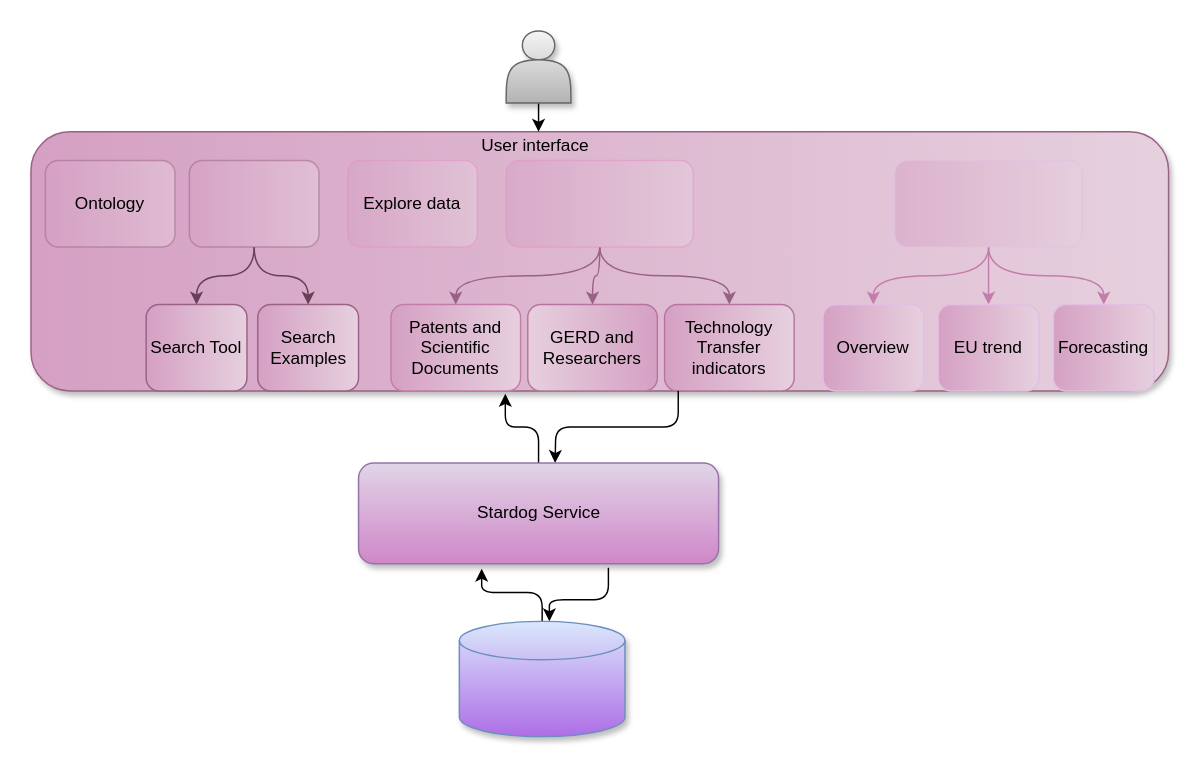
Some shapes in this 1202 by 772 pixel diagram are drawn without their labels. Each missing label, with the centre of its shape:
Predictions: point (988, 203)
Search: point (253, 203)
Stardog knowledge base: point (543, 680)
Statistics: point (599, 203)
